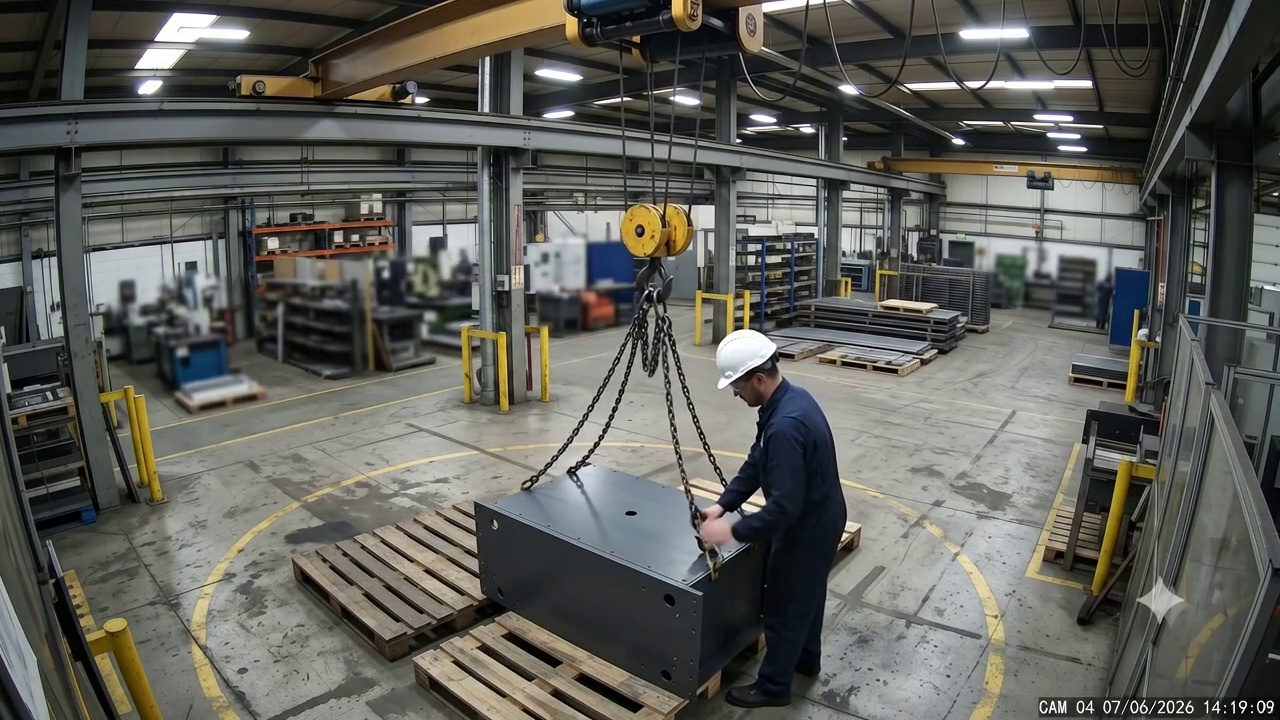person: (688, 327, 848, 710)
